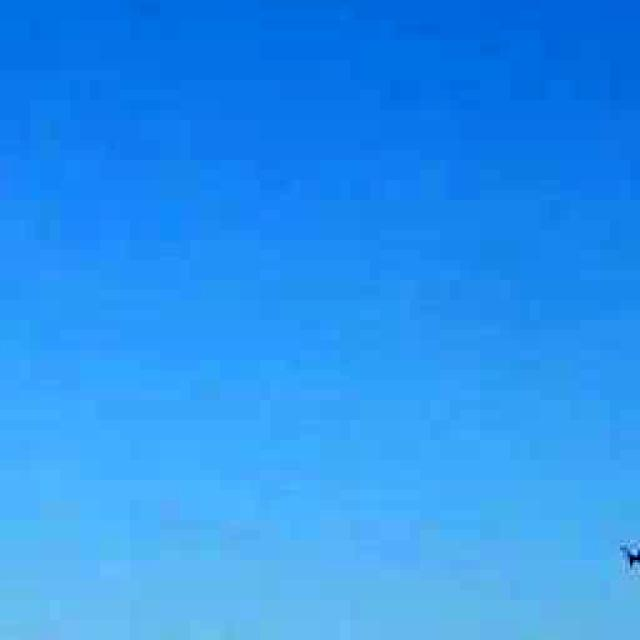bird: (606, 528, 640, 582)
